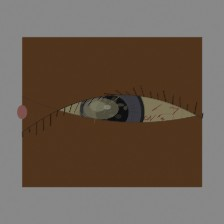corneal_ulcer: (73, 86, 130, 132)
